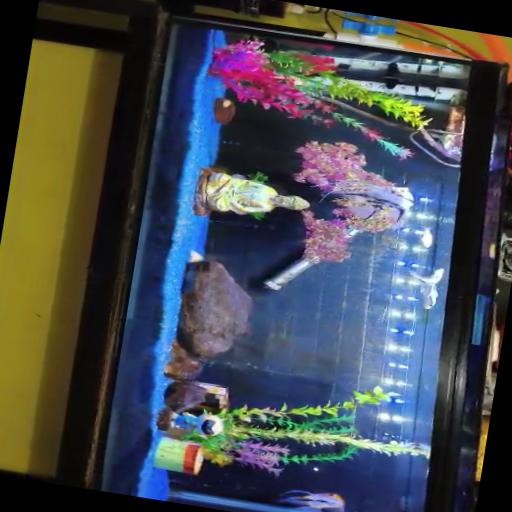Fish: (276, 489, 344, 511), (409, 267, 443, 308), (420, 227, 432, 247)
